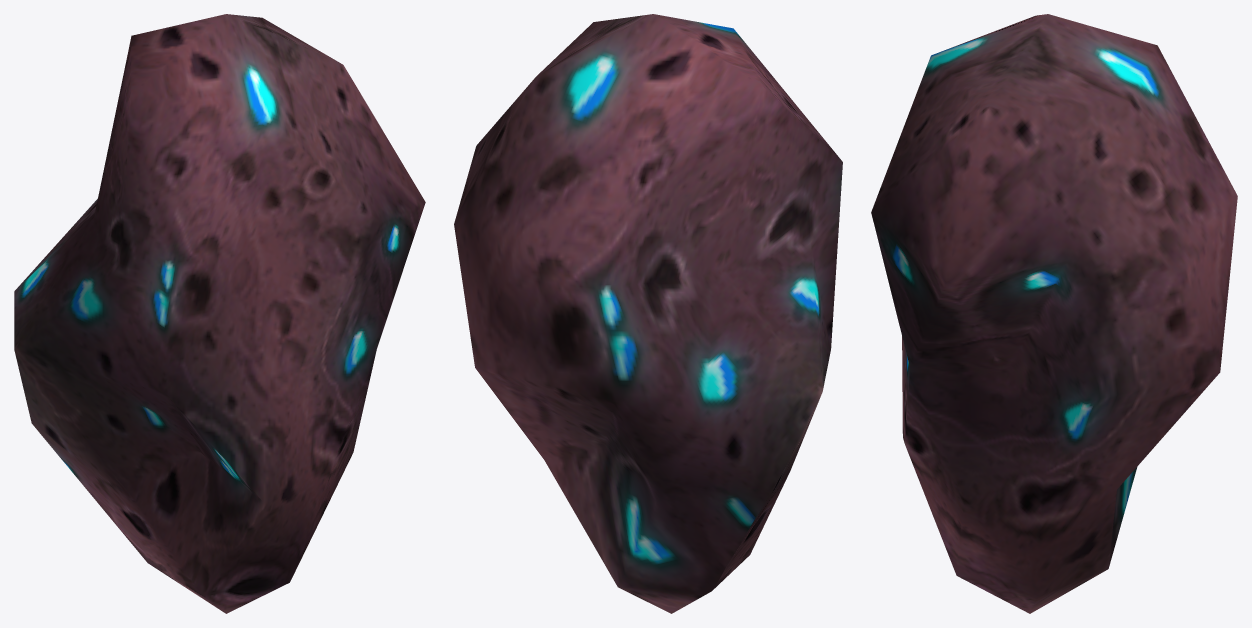
Rendered from Asteroid_Sml_B_01.FBX.
The picture shows the model from 3 angles, left to right: view 1: azimuth 30°, elevation 25°; view 2: azimuth 150°, elevation 25°; view 3: azimuth 270°, elevation 25°; orthographic projection. The views are drawn at different scales.
Visible parts, largest first — view 1: Asteroid_Sml_B_01; view 2: Asteroid_Sml_B_01; view 3: Asteroid_Sml_B_01.
Boxes of the visible parts, x1=… form: Asteroid_Sml_B_01: x1=14, y1=14, x2=425, y2=613; Asteroid_Sml_B_01: x1=454, y1=14, x2=842, y2=613; Asteroid_Sml_B_01: x1=871, y1=14, x2=1237, y2=613.
Bounding box in the file's own units: 351 × 563 × 310.
